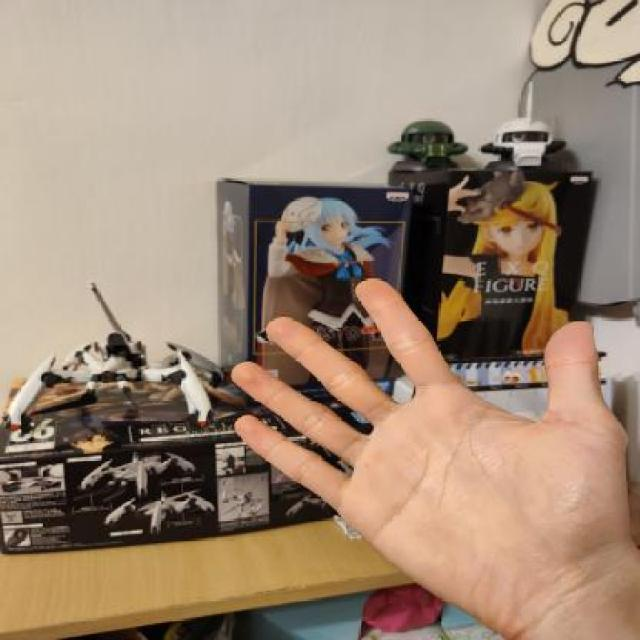bare_hand: (224, 264, 638, 638)
